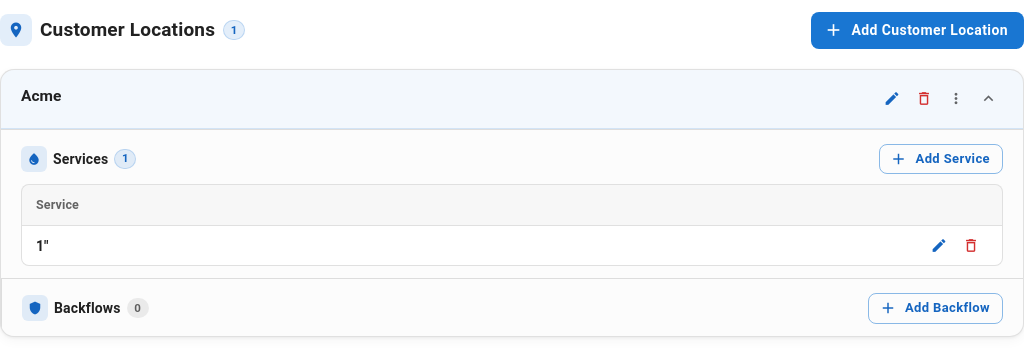
Test case: collection is controlled from JSON › turns opt-in actions on: menu (duplicate / move) and collapse
Check: the button "Acme" is shown, box [21,86,61,107]
Check: the button named "More actions for Acme" is shown, box [941,84,971,114]
Click the button named "Collapse Acme" at (988, 98), box [973,84,1003,114]
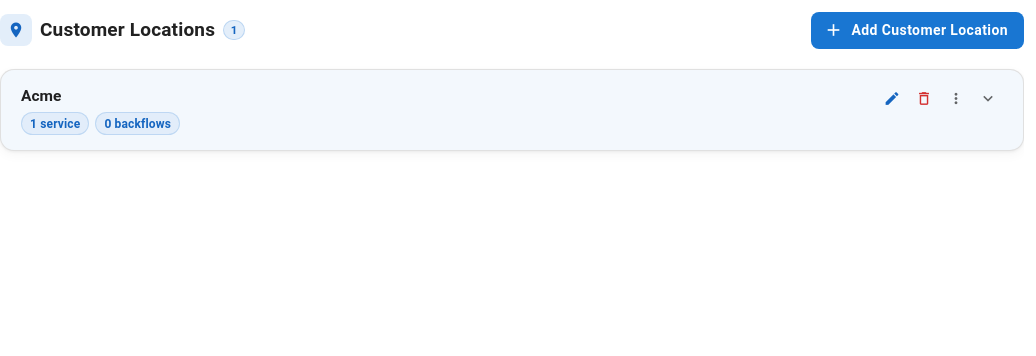
Check: the text "1 service" is shown, box [21,112,89,135]
Check: the text "0 backflows" is shown, box [95,112,180,135]
